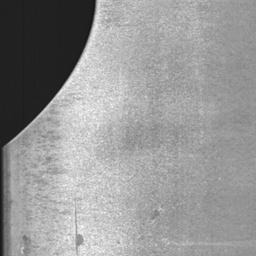Crescent gap: (0, 0, 96, 145)
